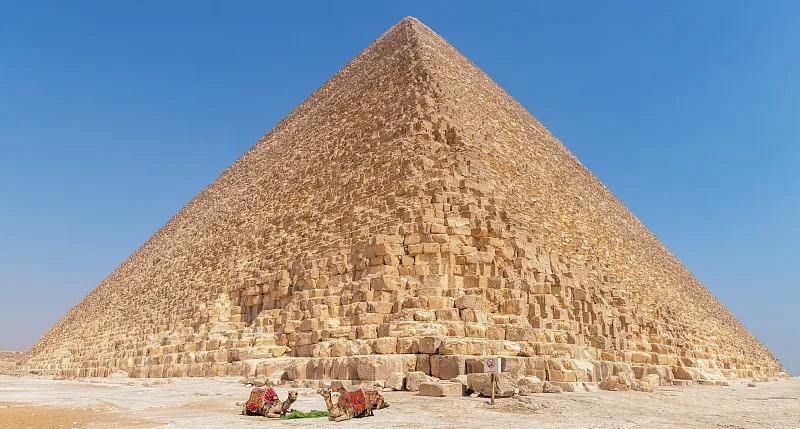Pyramid: (9, 15, 790, 390)
